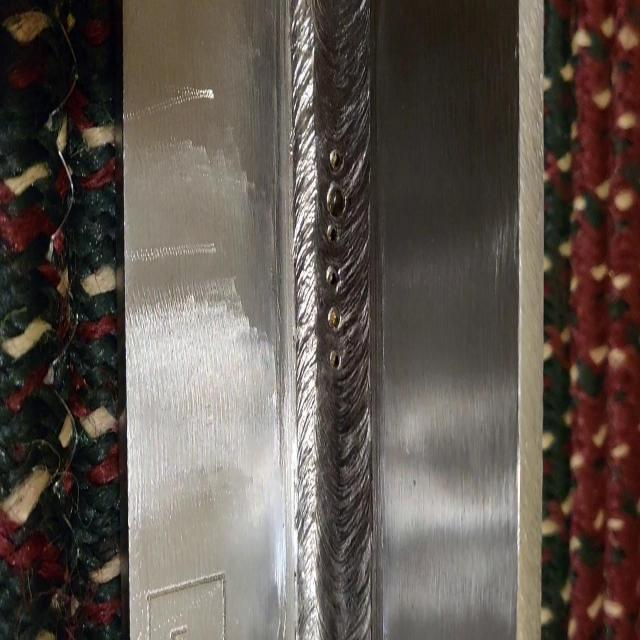Welding Line: (294, 3, 381, 640)
Workpiece: (120, 4, 540, 640)
porosity: (324, 147, 349, 370)
